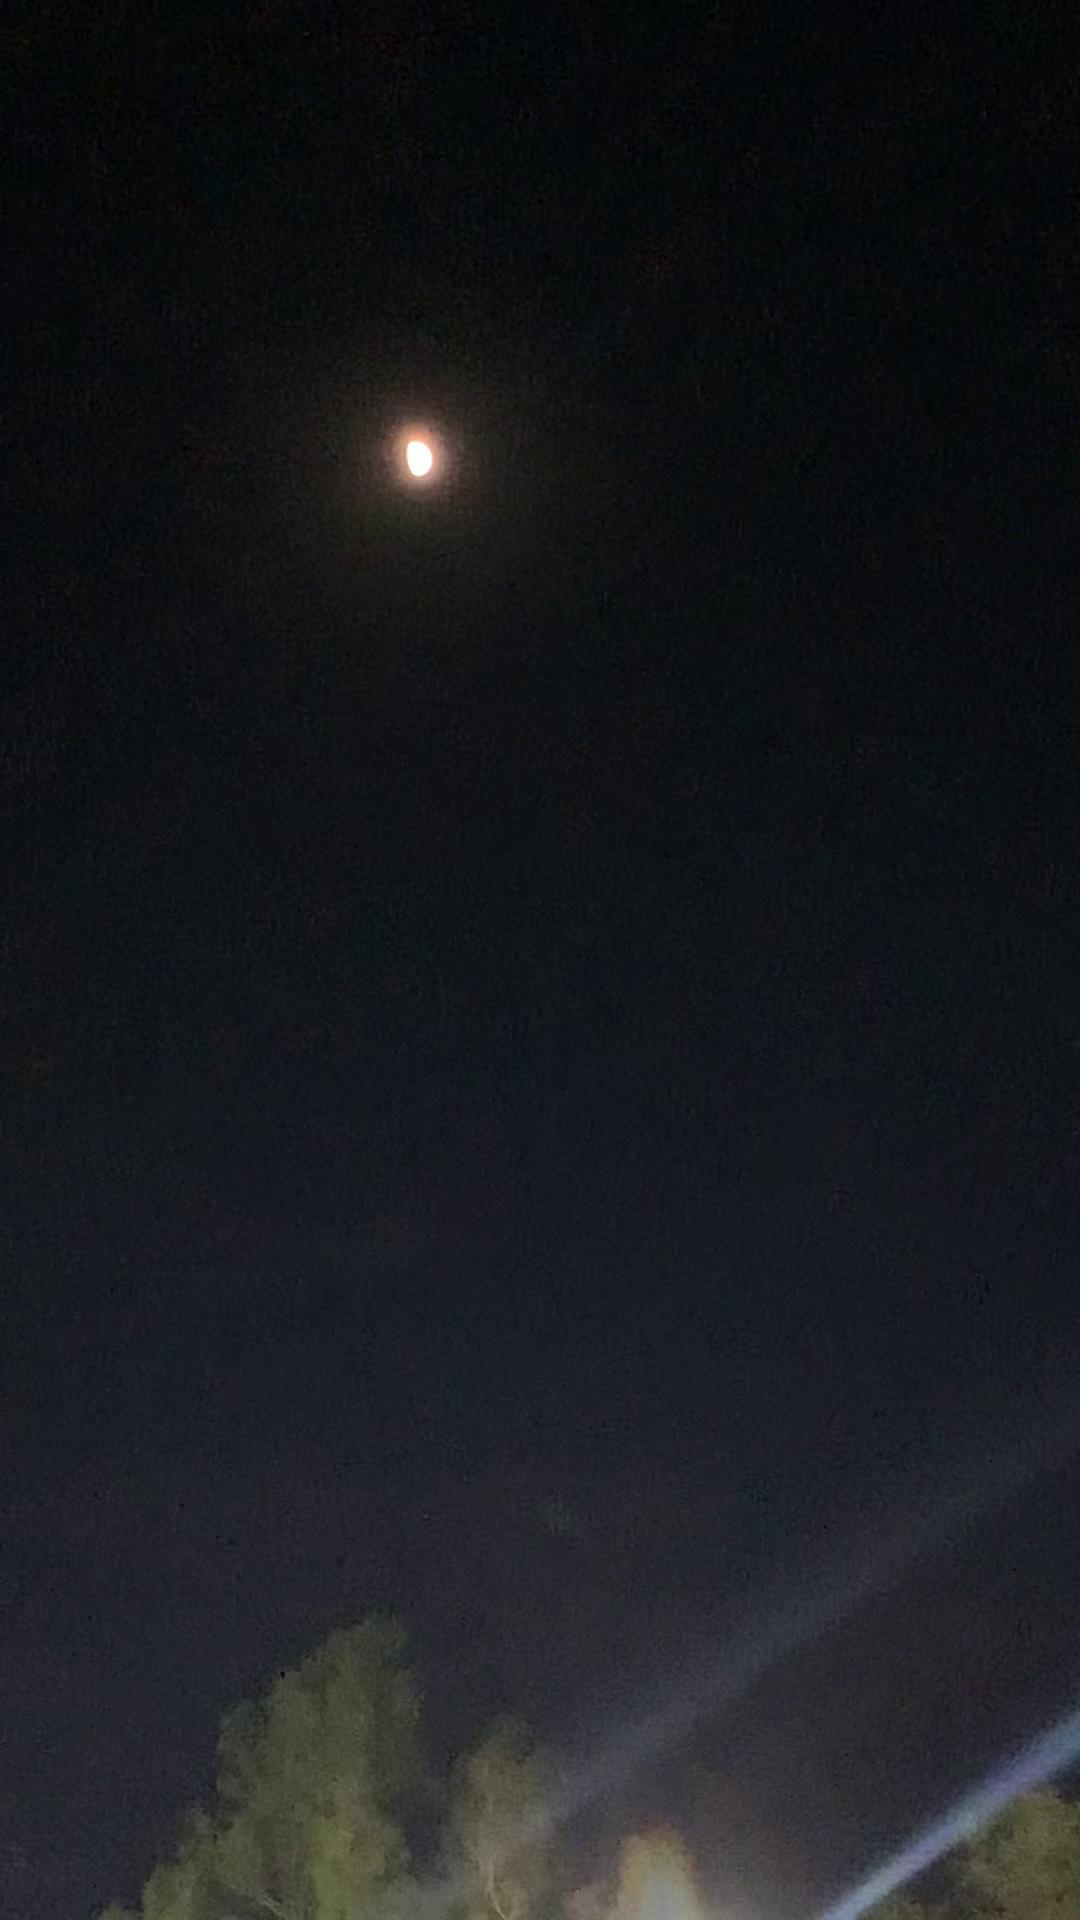moon: (385, 425, 462, 504)
